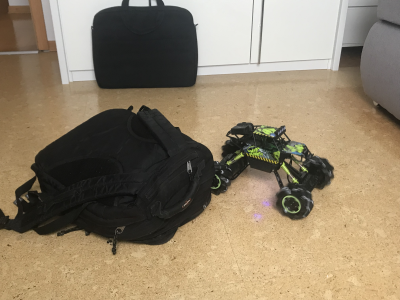remote control car: (205, 118, 337, 221)
